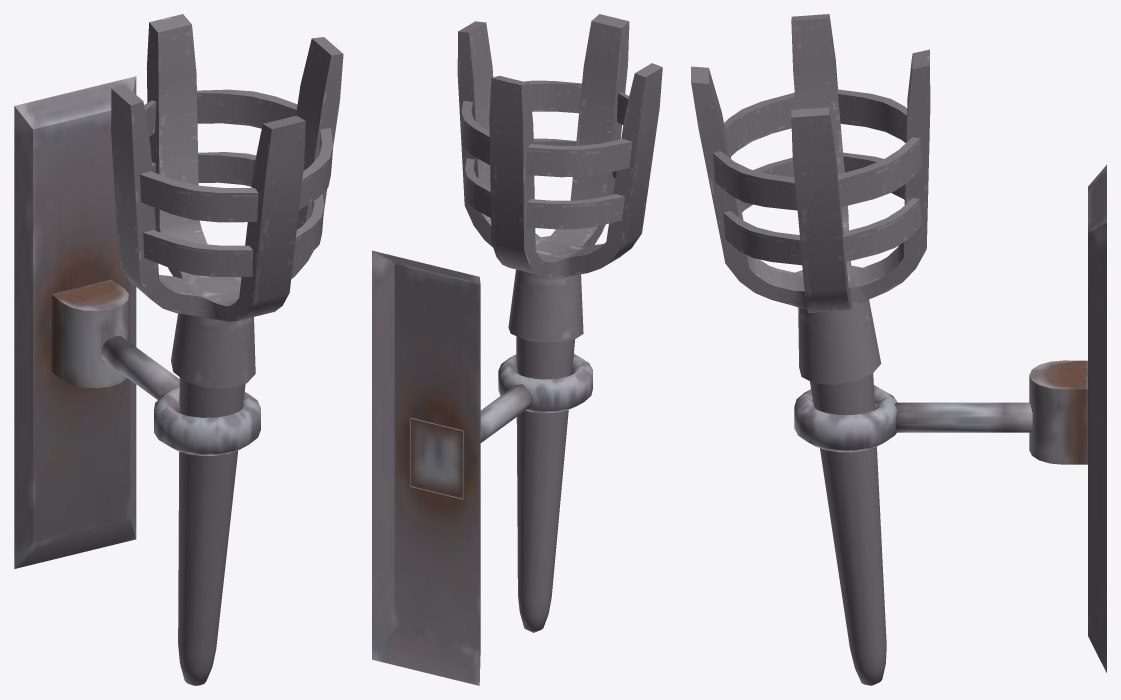
The model's file is torch-metal.glb.
The picture shows the model from 3 angles, left to right: view 1: azimuth 30°, elevation 25°; view 2: azimuth 150°, elevation 25°; view 3: azimuth 270°, elevation 25°; orthographic projection. The views are drawn at different scales.
Parts seen in each view (by area): view 1: Torch_Metal; view 2: Torch_Metal; view 3: Torch_Metal.
Part boxes in pixels (left/top/right/bottom): Torch_Metal: left=14, top=14, right=343, bottom=685; Torch_Metal: left=372, top=14, right=662, bottom=685; Torch_Metal: left=691, top=14, right=1106, bottom=685.
Bounding box in the file's own units: 0.2232 × 0.6482 × 0.3884.
Materials: 1 (1 with a texture image).
